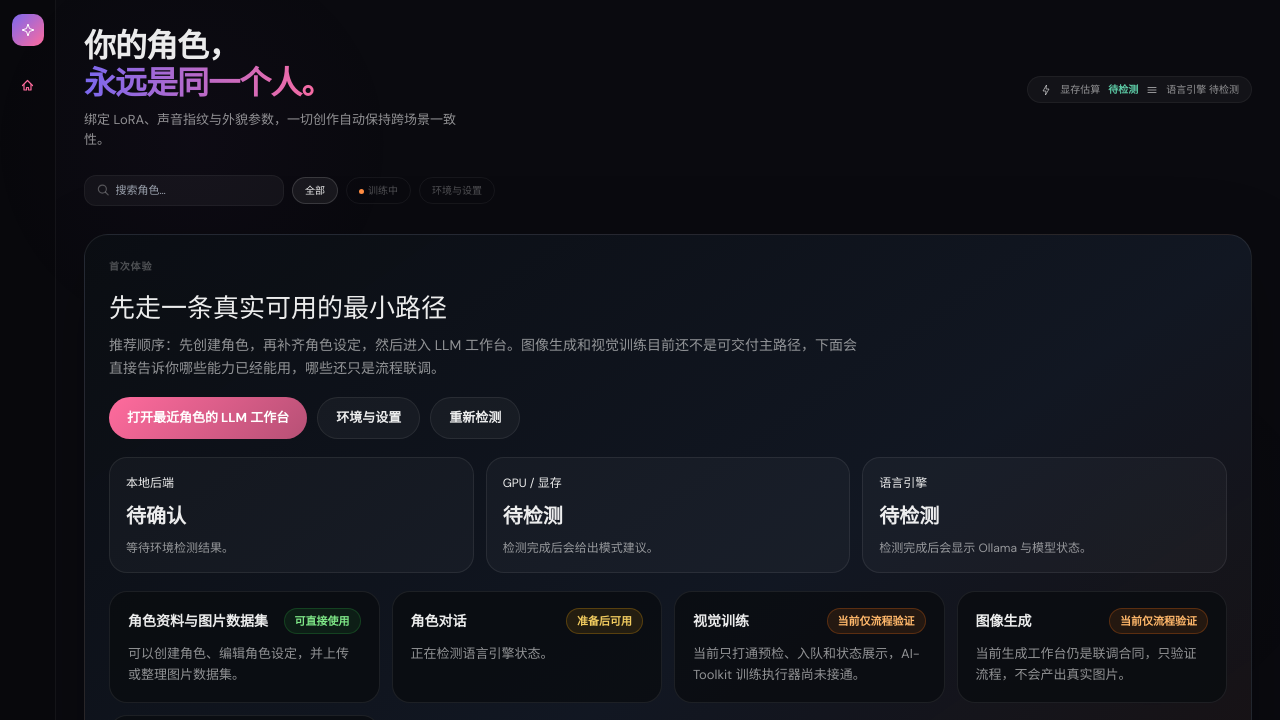
Test: filters character list when clicking 训练中
What coordinates should you click on to do the following:
click the button "训练中"
I would click on:
 (378, 190)
Its box is x1=346 y1=177 x2=411 y2=204.
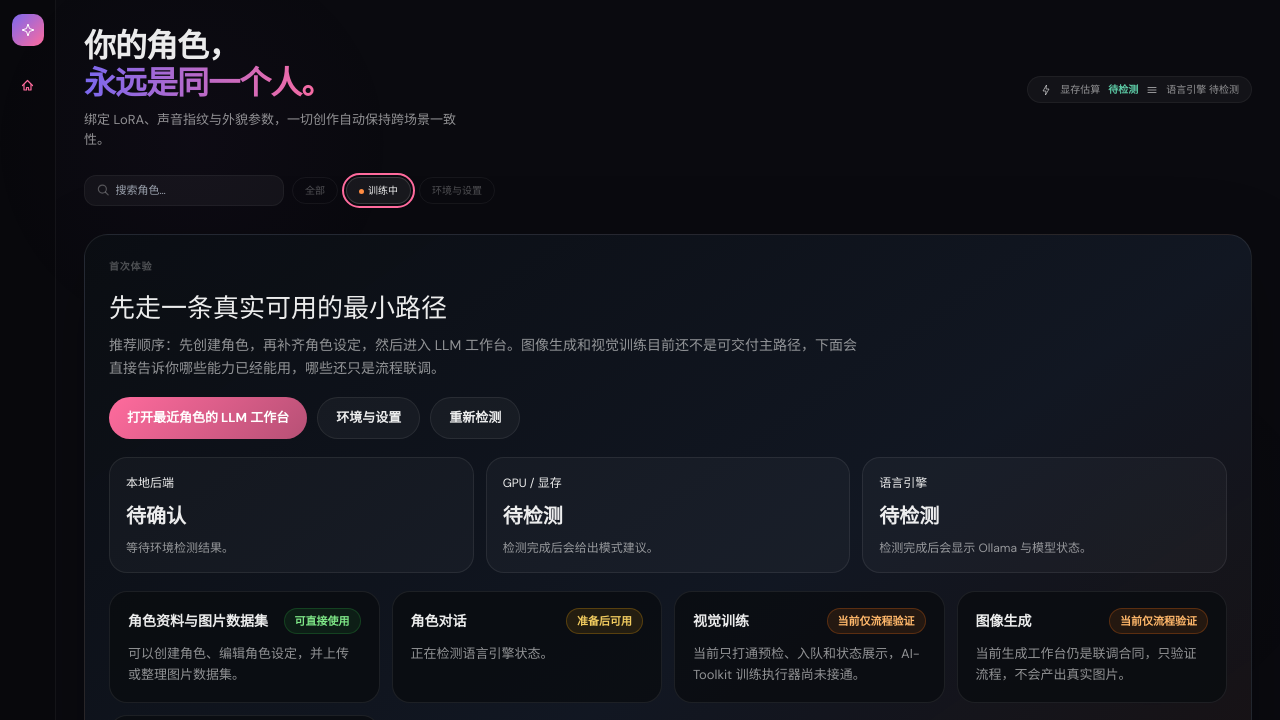
What coordinates should you click on to do the following:
click the button "全部"
I would click on:
 (315, 190)
Its box is x1=292 y1=177 x2=338 y2=204.
(page scrolled)
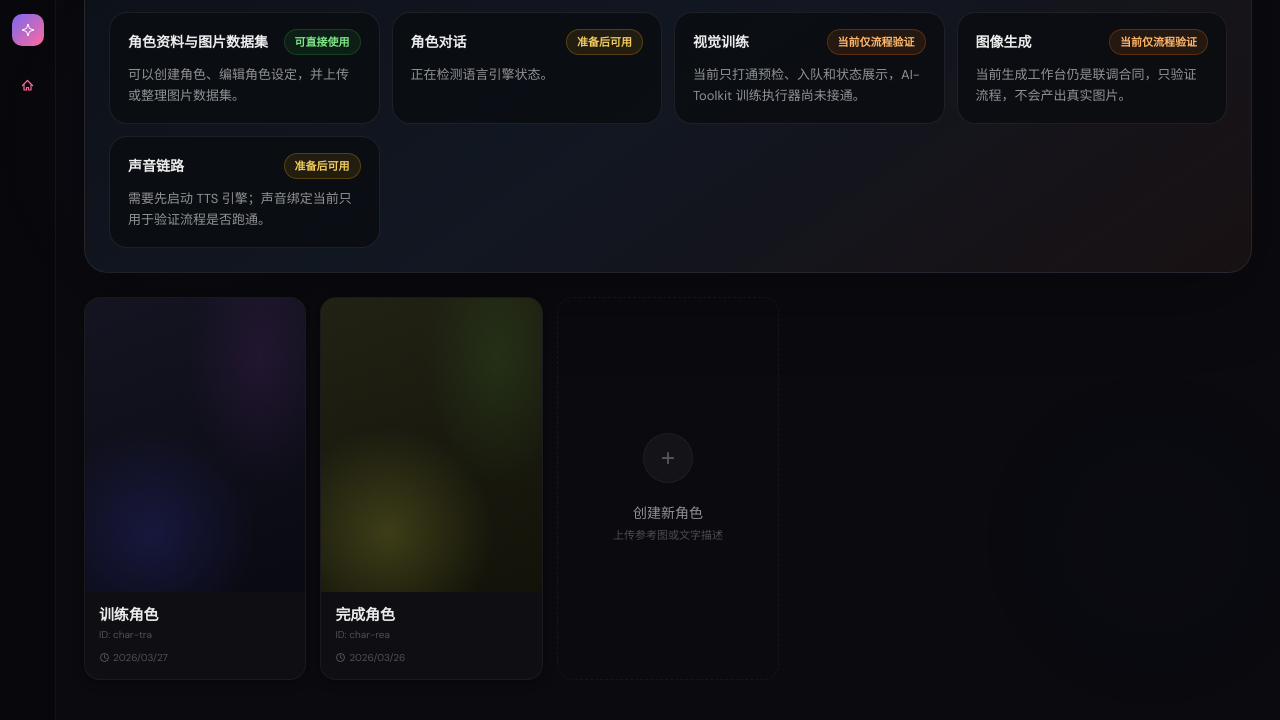
Expected: the button with aria-label "打开角色 完成角色" is shown, x1=320 y1=297 x2=543 y2=680
